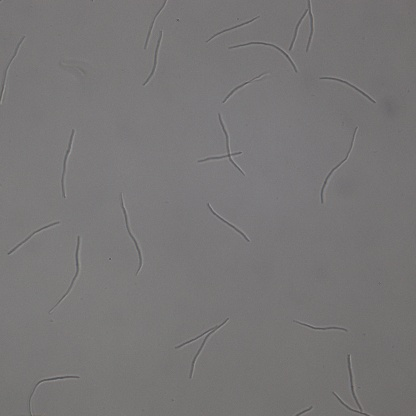Sensitive: (175, 317, 230, 378), (198, 112, 245, 177), (318, 126, 357, 203), (50, 235, 82, 312), (332, 354, 369, 416), (27, 374, 80, 416), (228, 41, 298, 71), (120, 192, 143, 274), (8, 221, 59, 253), (1, 35, 25, 103), (207, 203, 249, 241), (319, 76, 376, 102), (207, 15, 259, 42), (225, 71, 267, 102), (289, 1, 314, 51), (61, 128, 76, 198), (144, 1, 166, 48), (145, 30, 162, 85), (293, 319, 348, 335)
